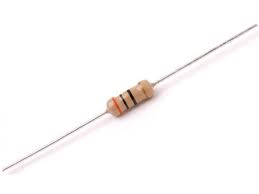resistor: (94, 65, 174, 132)
